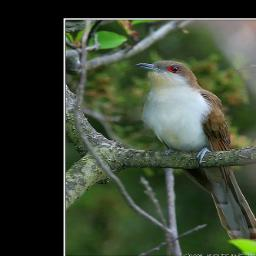Cuckoo: (134, 59, 256, 255)
